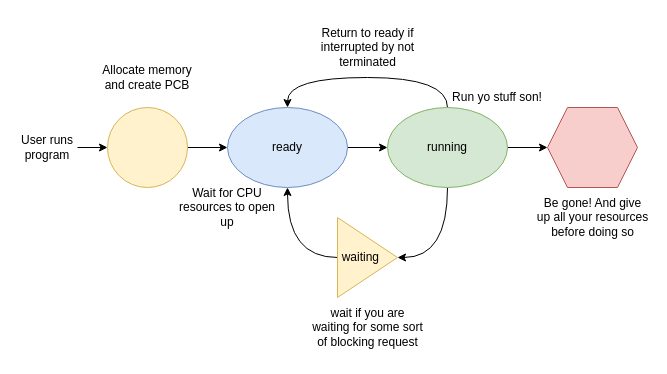
Image size: 667x374. Some labels were removed from this diagram. Here are the shapes that lost their labels. From the top down, the centre of each, then its label:
the point at 147,147: new
the point at 592,147: Terminated
